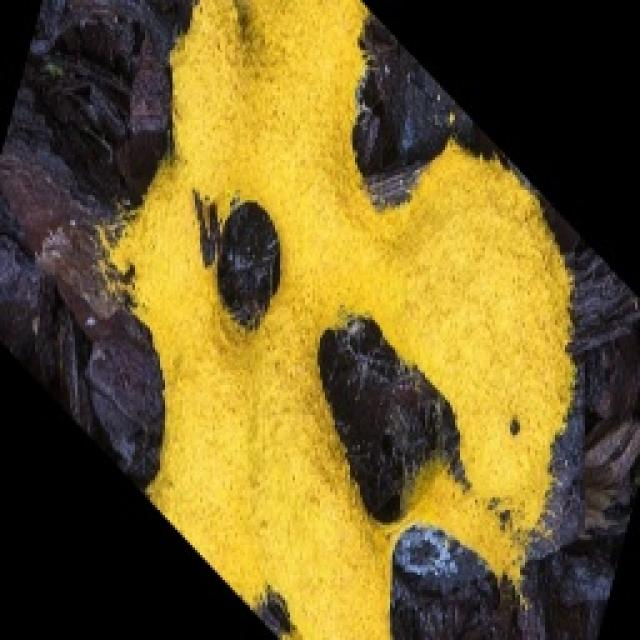Dog_vomit_slime_mold: (41, 4, 632, 640)
